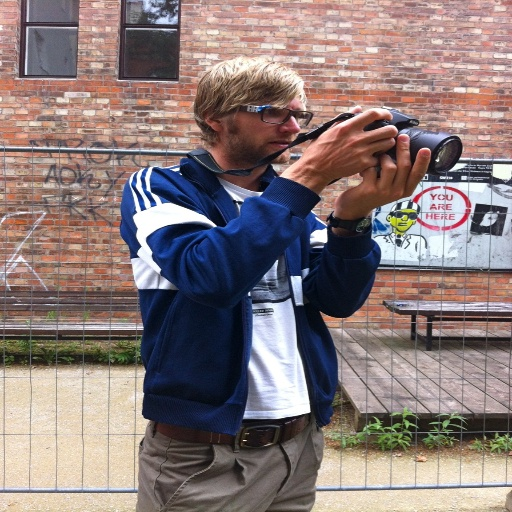hand: (336, 132, 432, 215), (301, 106, 399, 180)
